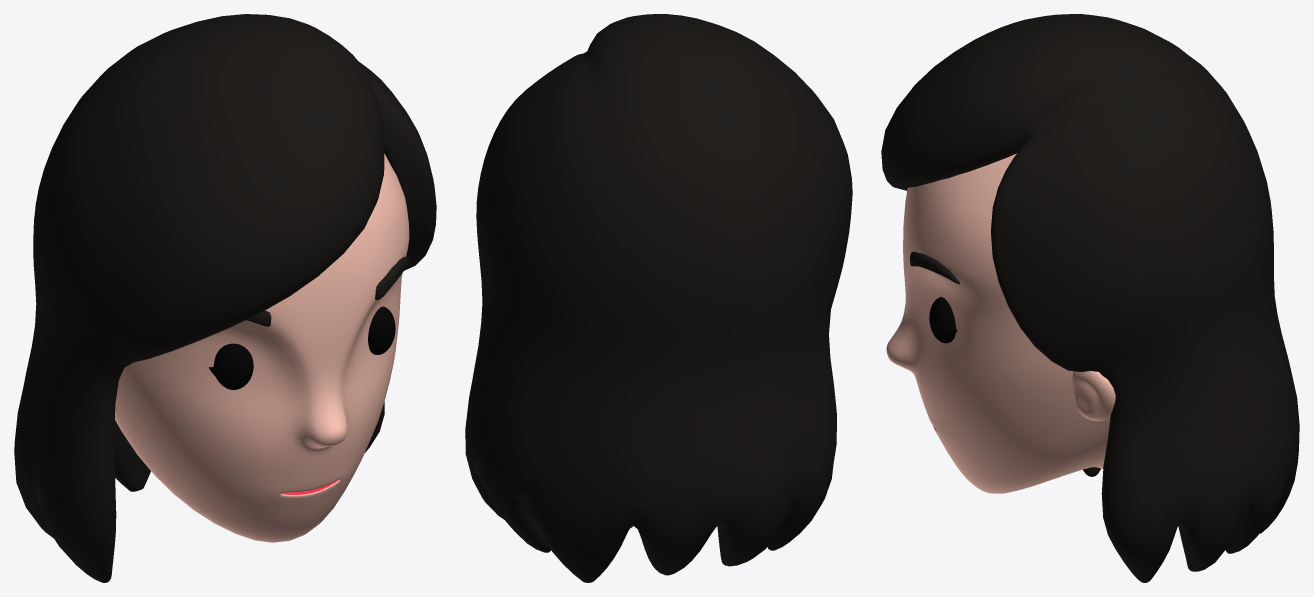
Rendered from Head_Woman_01.fbx.
3 renders of one model, left to right at view 1: azimuth 30°, elevation 25°; view 2: azimuth 150°, elevation 25°; view 3: azimuth 270°, elevation 25°, orthographic. The views are drawn at different scales.
Visible parts, largest first — view 1: Nurse; view 2: Nurse; view 3: Nurse.
Part boxes in pixels (box(x1,y1,x2,y2)): Nurse: box(14, 14, 436, 582); Nurse: box(465, 14, 852, 582); Nurse: box(881, 14, 1299, 582).
Bounding box in the file's own units: 84.14 × 117 × 87.08.
